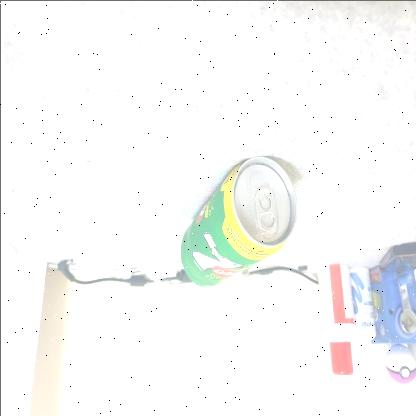Can: (179, 154, 297, 286)
